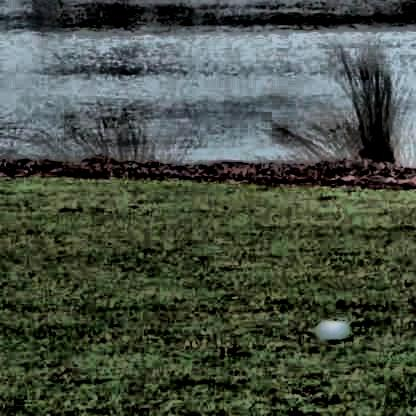golfball: (315, 314, 349, 342)
